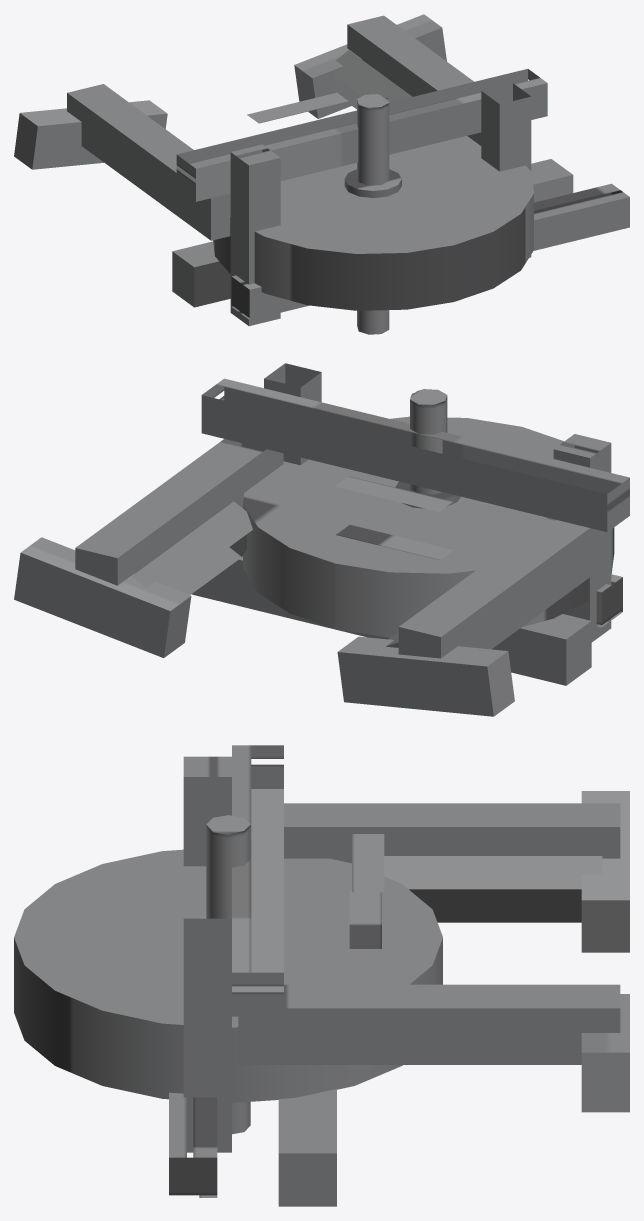
The picture shows the model from 3 angles, top to bottom: view 1: azimuth 30°, elevation 25°; view 2: azimuth 150°, elevation 25°; view 3: azimuth 270°, elevation 25°; orthographic projection. The views are drawn at different scales.
Size of the model in its own units: 0.9 by 0.4416 by 0.8188.
